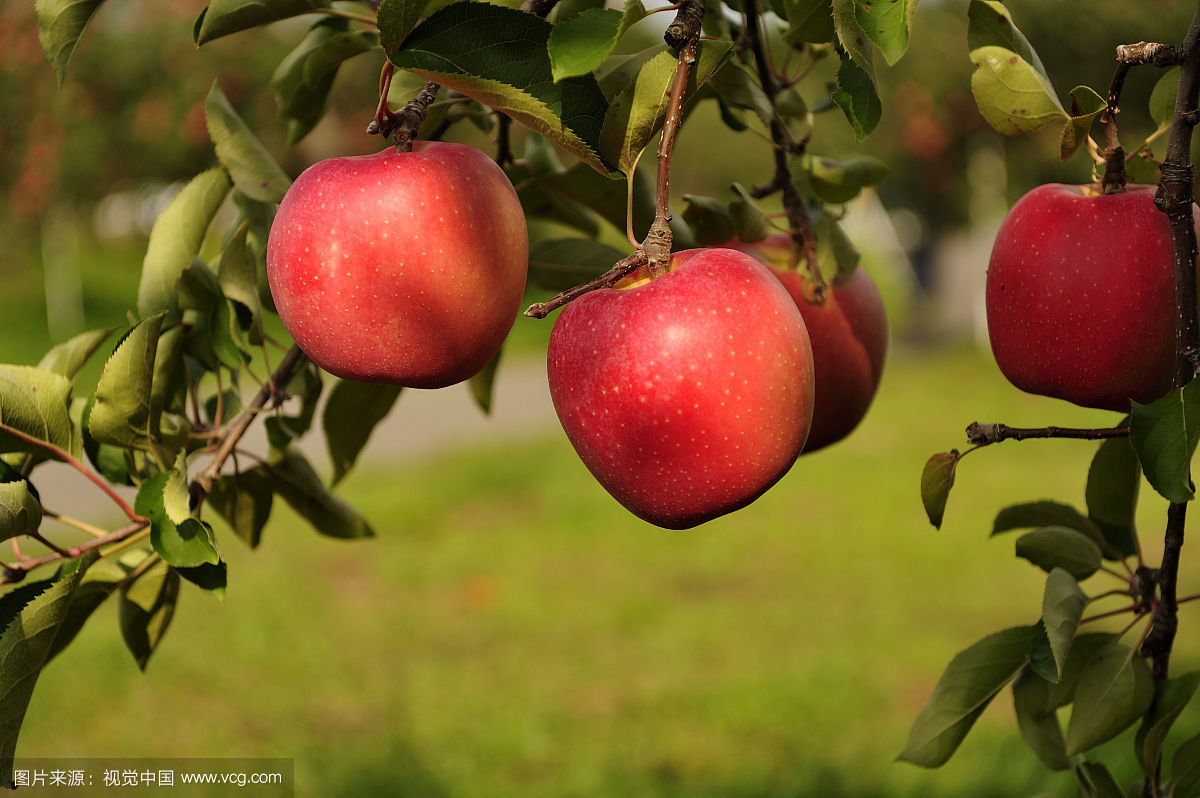apple: (550, 248, 817, 533), (265, 139, 529, 388)
obscured(1)_apple: (985, 179, 1199, 410)
